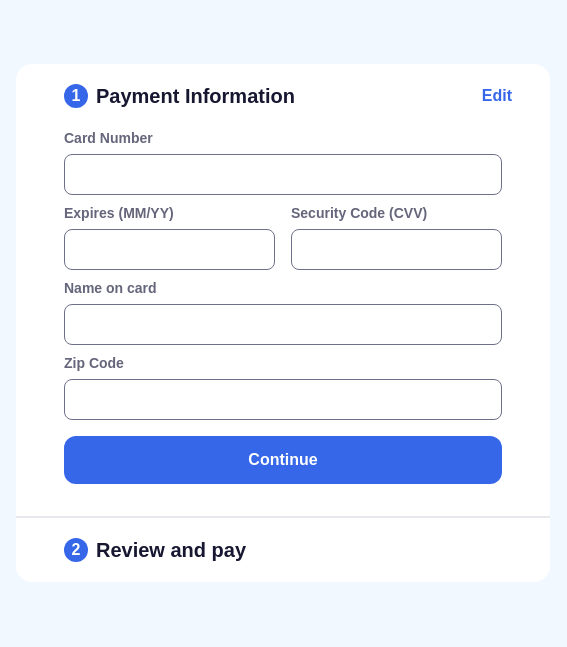
Test case: PaymentForm › shows success if expiry date field is valid
Type "09/27" into the field labelled "Expires (MM/YY)" at (170, 250), box [64,229,275,270]
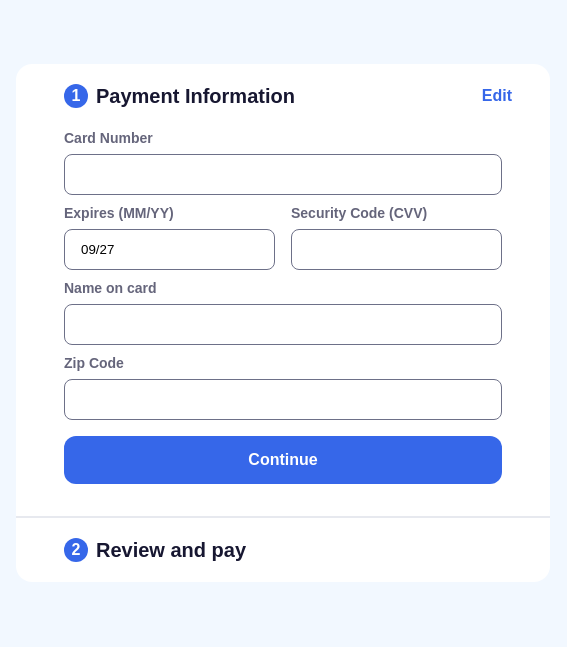
Click the button "Continue" at (283, 460), box [64,436,502,484]
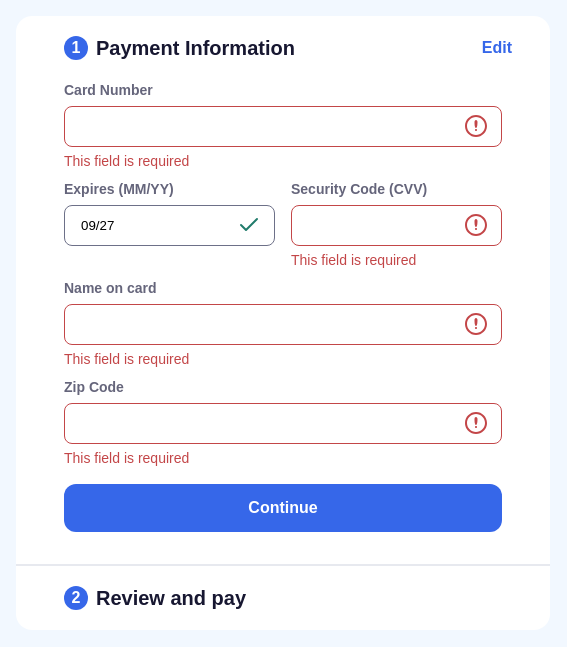
expect the icon with test id "success-icon" is shown: met, box [237,213,261,244]
